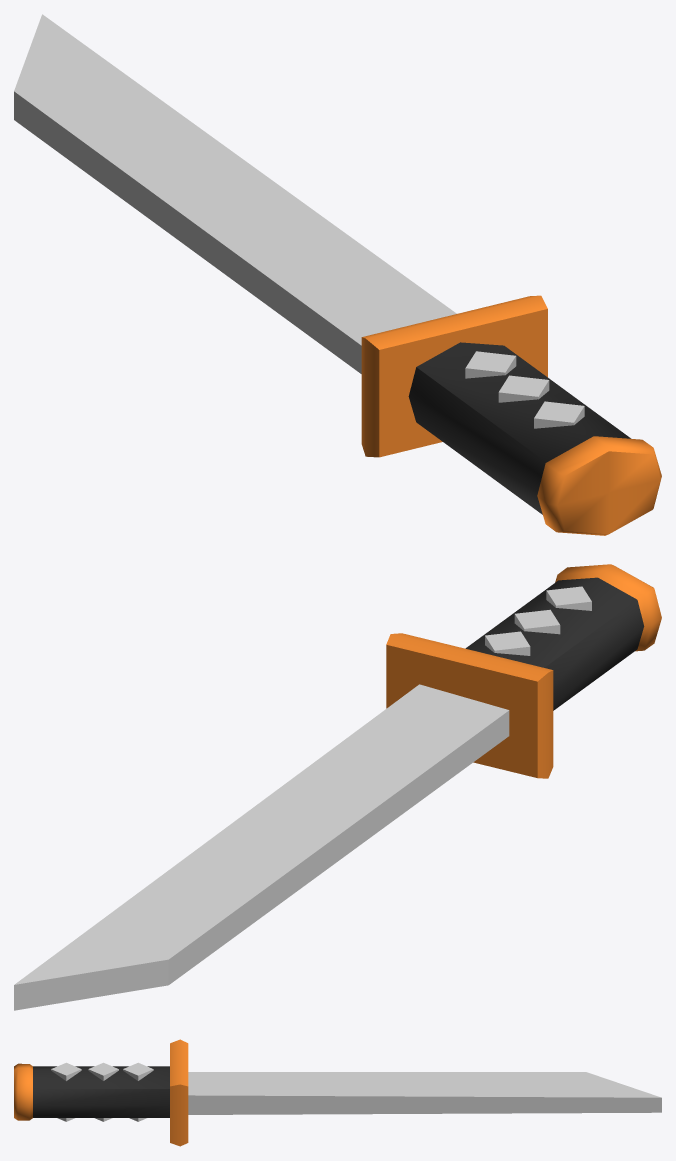
The model's file is Sword.fbx.
3 renders of one model, top to bottom at view 1: azimuth 30°, elevation 25°; view 2: azimuth 150°, elevation 25°; view 3: azimuth 270°, elevation 25°, orthographic. The views are drawn at different scales.
Parts seen in each view (by area): view 1: Cube.014; view 2: Cube.014; view 3: Cube.014.
Part boxes in pixels (bbox=[...]): Cube.014: bbox=[14, 14, 661, 535]; Cube.014: bbox=[14, 564, 661, 1010]; Cube.014: bbox=[14, 1039, 661, 1146].
Bounding box in the file's own units: 56.55 × 36.37 × 344.
